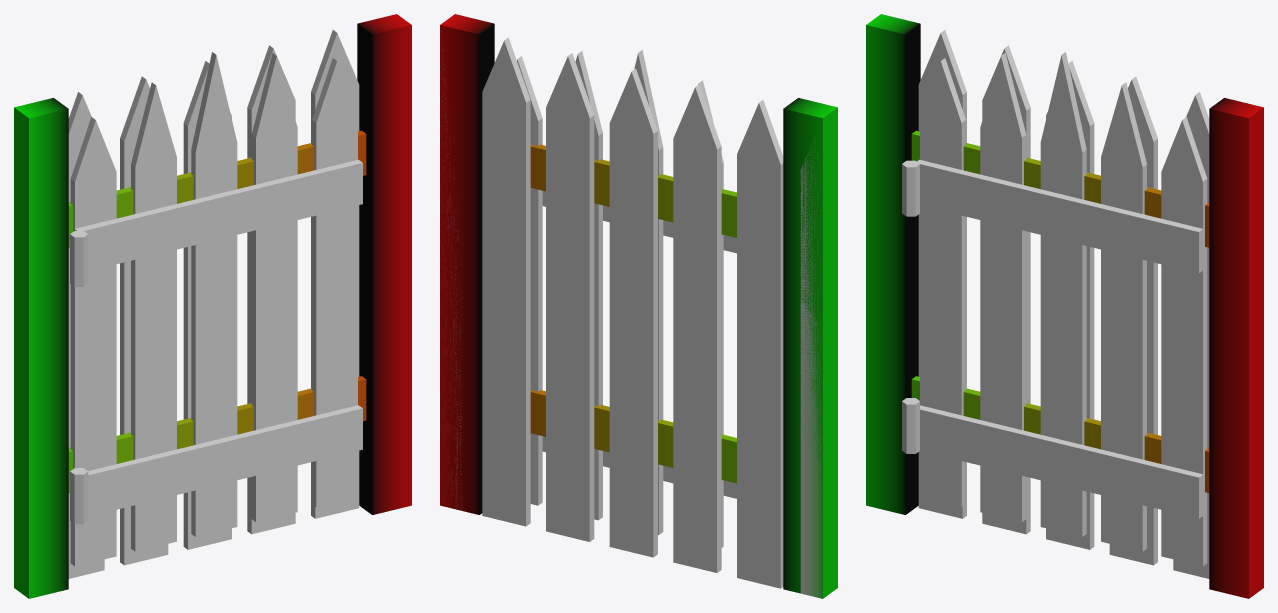
Rendered from fence.fbx.
3 renders of one model, left to right at view 1: azimuth 30°, elevation 25°; view 2: azimuth 150°, elevation 25°; view 3: azimuth 330°, elevation 25°, orthographic.
Visible parts, largest first — view 1: Simple Outside Fence Door, Simple Outside Fence Door 1m (w02-02), Simple Outside Fence 1m (w02-01); view 2: Simple Outside Fence 1m (w02-01), Simple Outside Fence Door 1m (w02-02), Simple Outside Fence Door; view 3: Simple Outside Fence Door, Simple Outside Fence Door 1m (w02-02), Simple Outside Fence 1m (w02-01).
Part boxes in pixels (bbox=[...]): Simple Outside Fence Door: bbox=[70, 52, 362, 566]; Simple Outside Fence Door 1m (w02-02): bbox=[14, 14, 411, 598]; Simple Outside Fence 1m (w02-01): bbox=[14, 30, 366, 590]; Simple Outside Fence 1m (w02-01): bbox=[440, 26, 827, 598]; Simple Outside Fence Door 1m (w02-02): bbox=[440, 14, 837, 595]; Simple Outside Fence Door: bbox=[517, 50, 736, 547]; Simple Outside Fence Door: bbox=[902, 52, 1207, 566]; Simple Outside Fence Door 1m (w02-02): bbox=[866, 14, 1263, 598]; Simple Outside Fence 1m (w02-01): bbox=[911, 30, 1263, 590].
Size of the model in its own units: 100 by 123 by 9.97.
